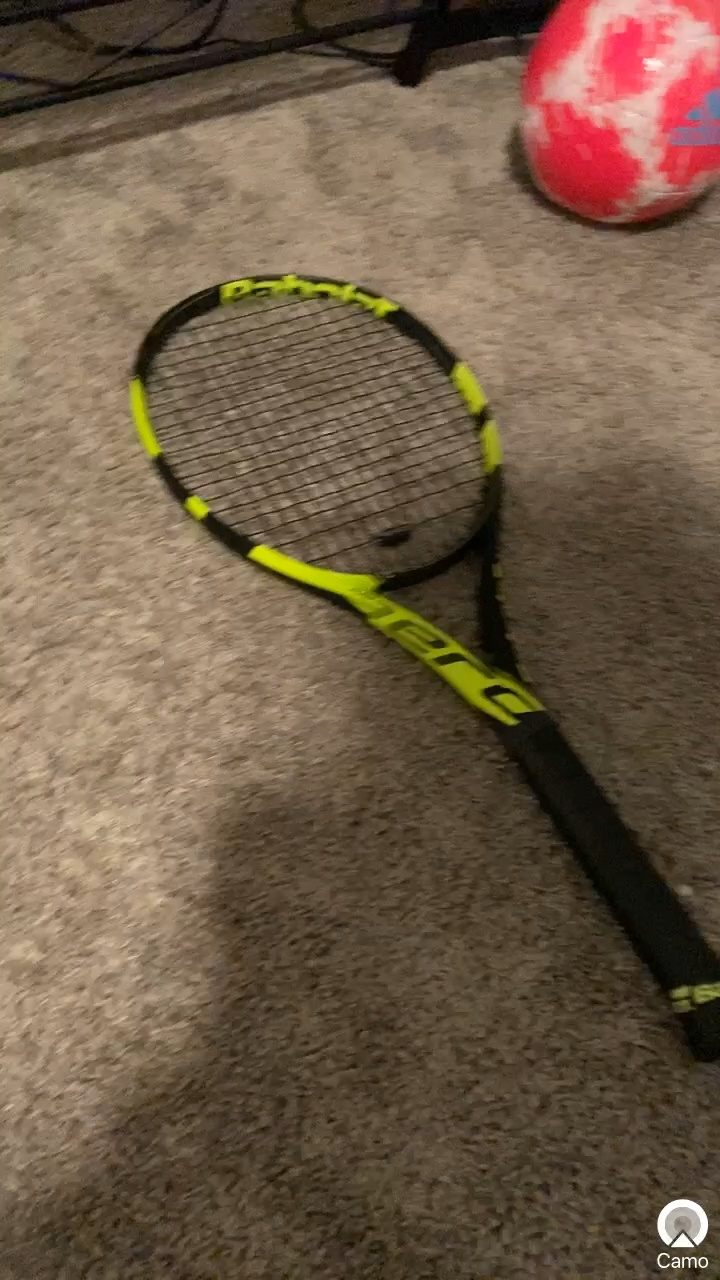Tennis_Racquet: (124, 268, 720, 1064)
